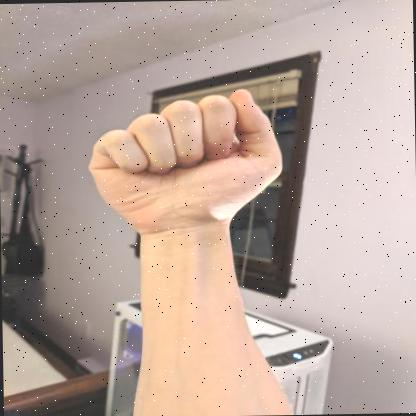A: (87, 88, 282, 245)
